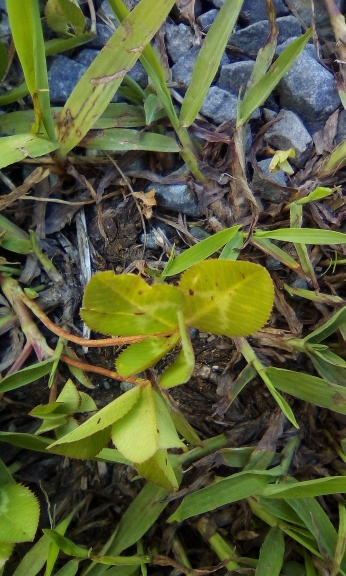4leaf: (79, 258, 275, 390)
